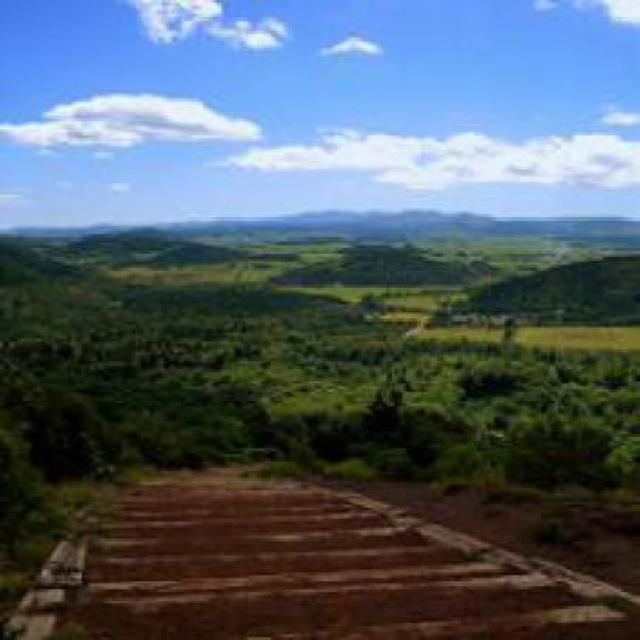stair: (34, 474, 468, 629)
